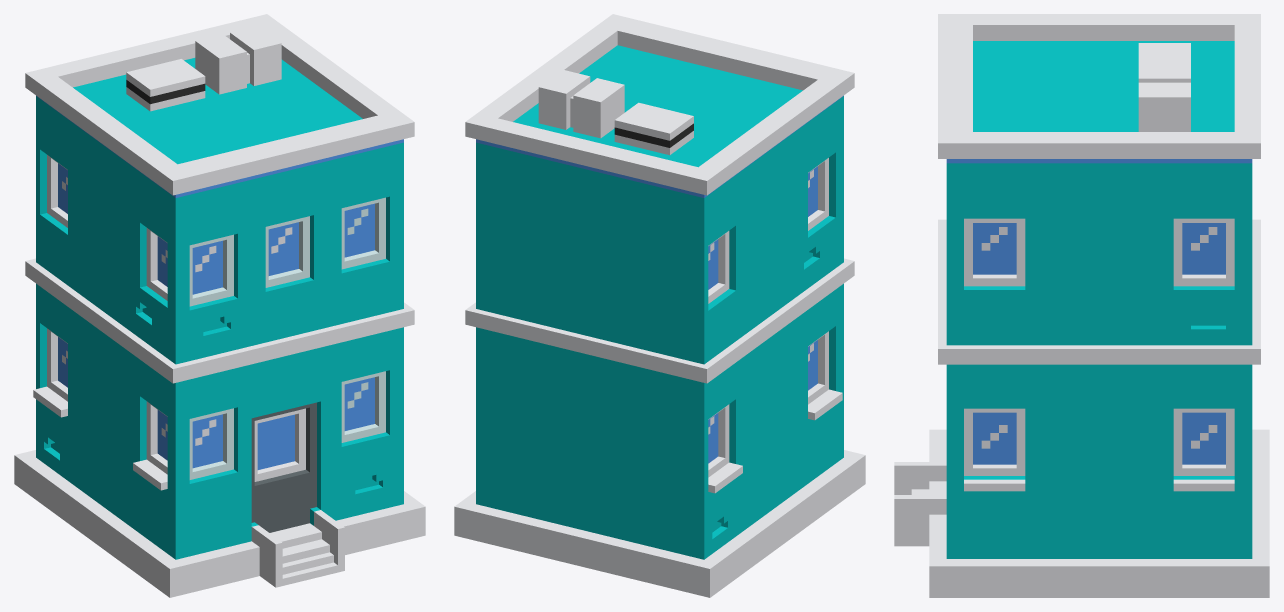
File: House1FBX.fbx
3 renders of one model, left to right at view 1: azimuth 30°, elevation 25°; view 2: azimuth 150°, elevation 25°; view 3: azimuth 270°, elevation 25°, orthographic. The views are drawn at different scales.
Parts seen in each view (by area): view 1: House1v1; view 2: House1v1; view 3: House1v1.
Boxes of the visible parts, <box> form: House1v1: <box>14,14,425,597</box>; House1v1: <box>454,14,865,597</box>; House1v1: <box>894,14,1269,597</box>.
Size of the model in its own units: 370 by 600 by 430.
